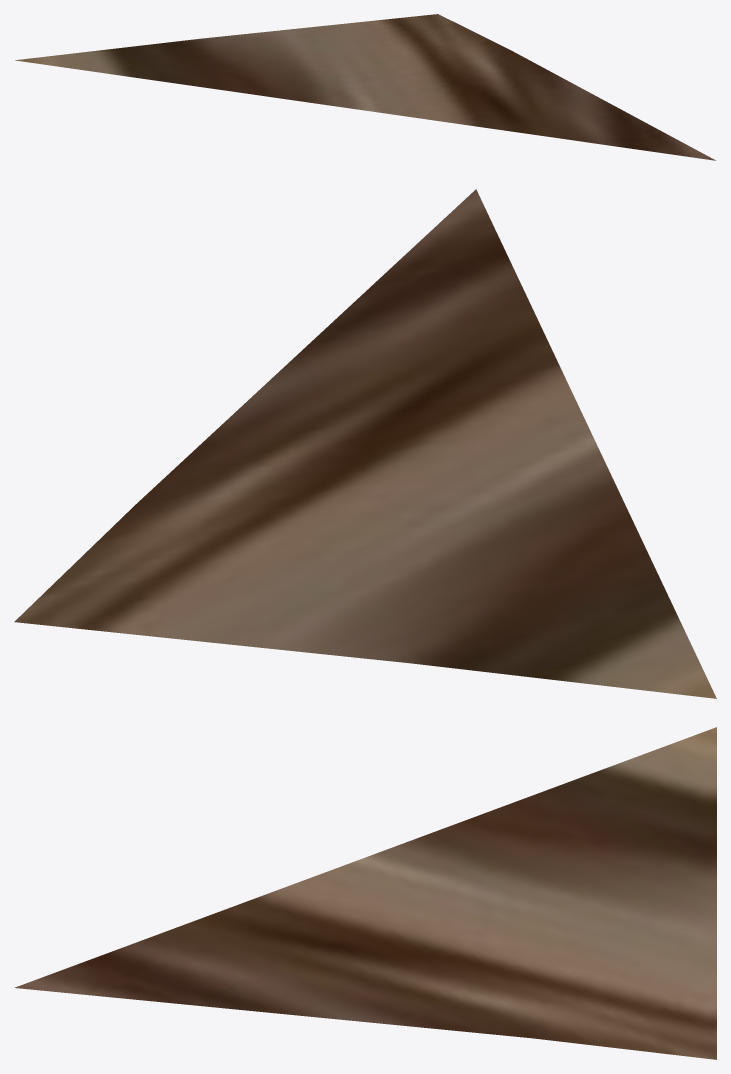
The picture shows the model from 3 angles, top to bottom: view 1: azimuth 30°, elevation 25°; view 2: azimuth 150°, elevation 25°; view 3: azimuth 270°, elevation 25°; orthographic projection. The views are drawn at different scales.
Bounding box in the file's own units: 0.2842 × 0.0366 × 0.3236.
Materials: 1 (1 with a texture image).
